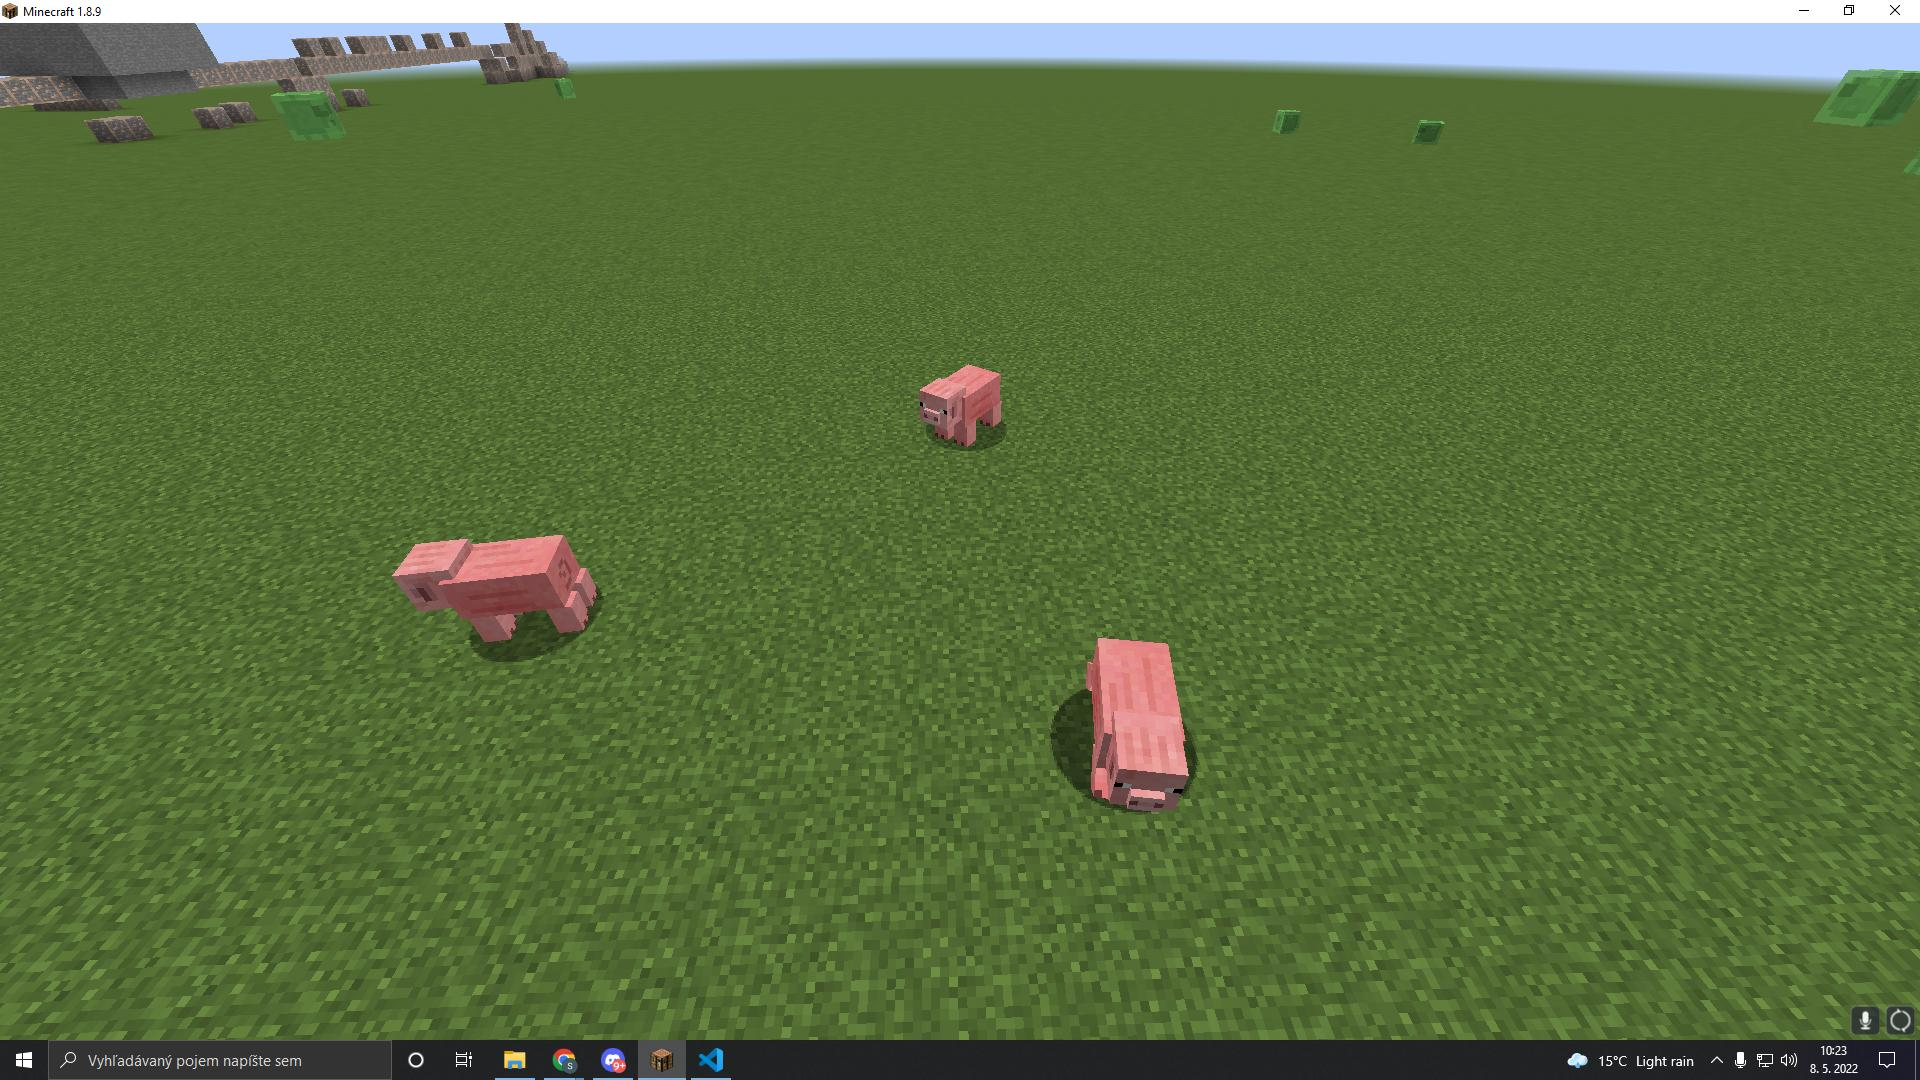pig: (388, 526, 609, 671), (1064, 626, 1217, 836), (911, 359, 1014, 462)
